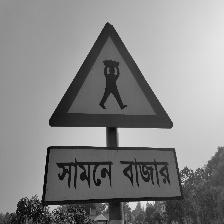Market-in-front: (44, 23, 182, 217)
